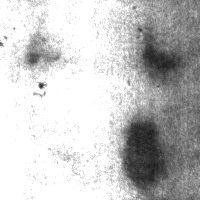patches: (123, 118, 167, 192), (143, 40, 182, 81)
